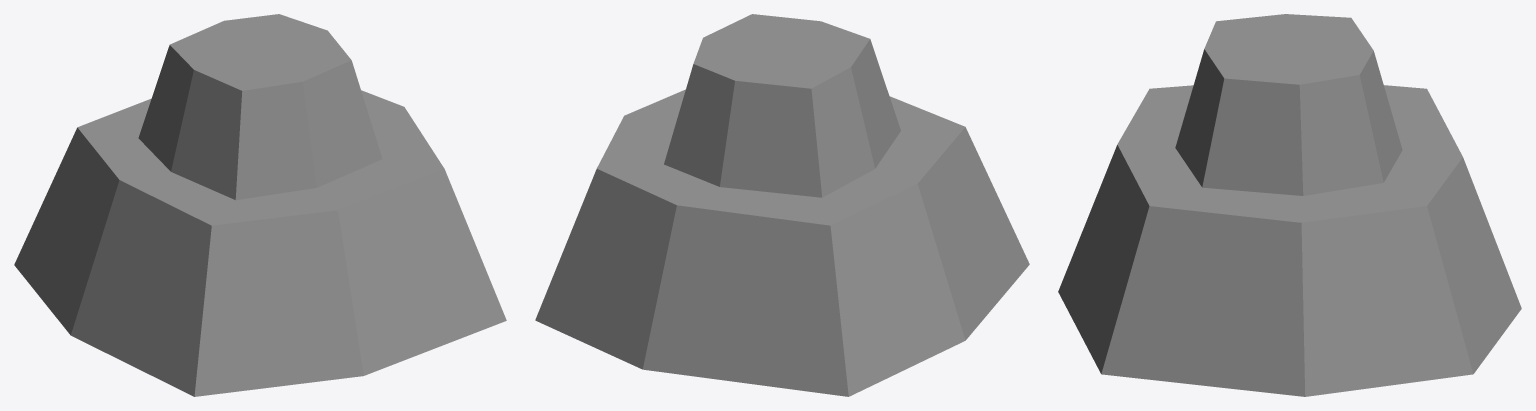
Rendered from Rock_03.fbx.
3 renders of one model, left to right at view 1: azimuth 30°, elevation 25°; view 2: azimuth 150°, elevation 25°; view 3: azimuth 270°, elevation 25°, orthographic. The views are drawn at different scales.
Parts seen in each view (by area): view 1: Rock_03; view 2: Rock_03; view 3: Rock_03.
Part boxes in pixels (x1,y1,x2,y2): Rock_03: (14, 14, 506, 396); Rock_03: (535, 14, 1029, 396); Rock_03: (1058, 14, 1521, 396).
Bounding box in the file's own units: 106 × 63 × 107.
